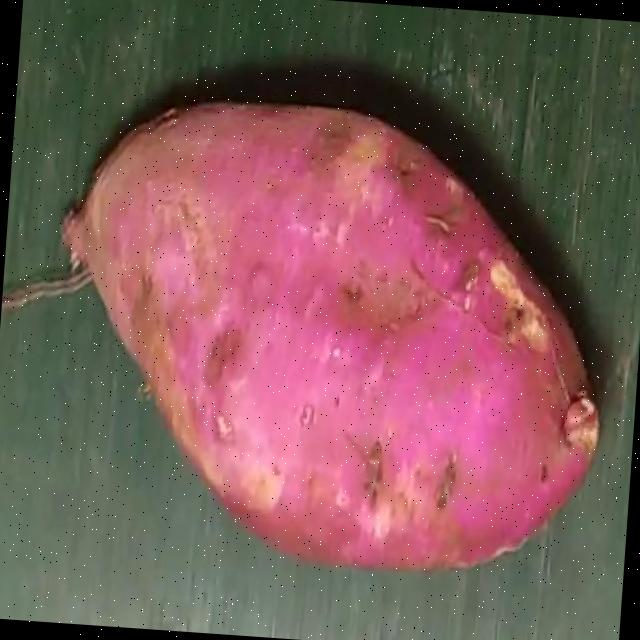Sweet Potato: (40, 101, 598, 573)
